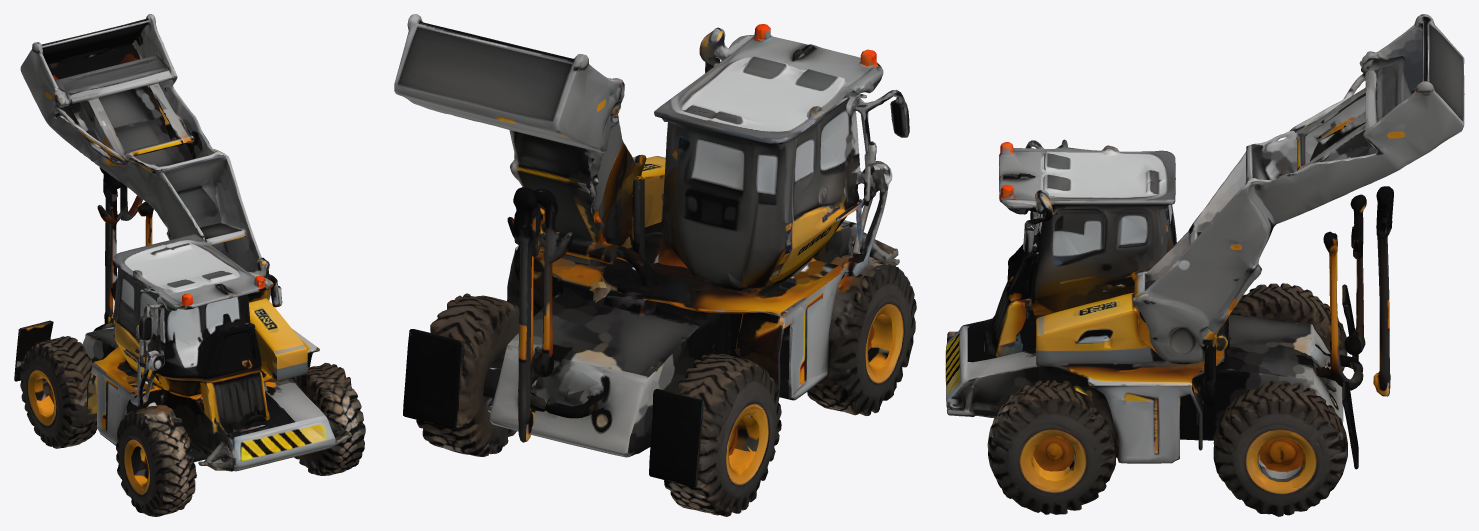
Rendered from makita_brushless.glb.
The picture shows the model from 3 angles, left to right: view 1: azimuth 30°, elevation 25°; view 2: azimuth 150°, elevation 25°; view 3: azimuth 270°, elevation 25°; orthographic projection. The views are drawn at different scales.
Parts seen in each view (by area): view 1: 0432_a6caa8e8_transparent; view 2: 0432_a6caa8e8_transparent; view 3: 0432_a6caa8e8_transparent.
Boxes of the visible parts, x1,y1,x2,y2 form: 0432_a6caa8e8_transparent: [14, 14, 365, 516]; 0432_a6caa8e8_transparent: [394, 14, 916, 516]; 0432_a6caa8e8_transparent: [945, 14, 1464, 516].
Bounding box in the file's own units: 1.14 × 1.76 × 1.99.
Materials: 1 (1 with a texture image).
